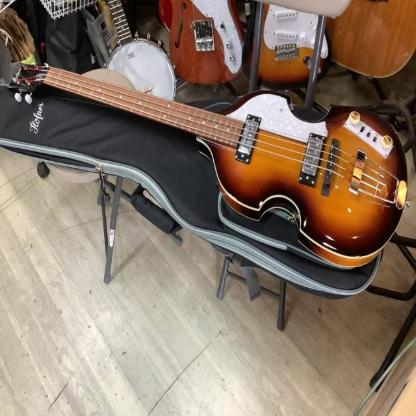bass: (11, 66, 407, 267)
